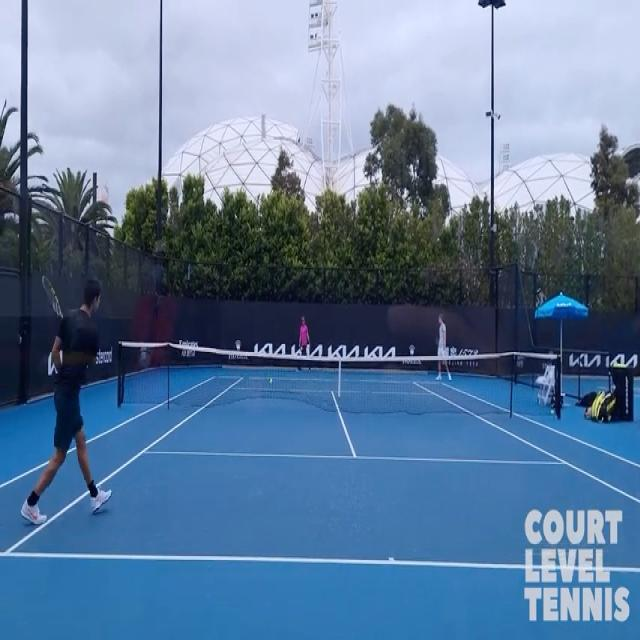forehand-finish: (22, 266, 118, 524)
